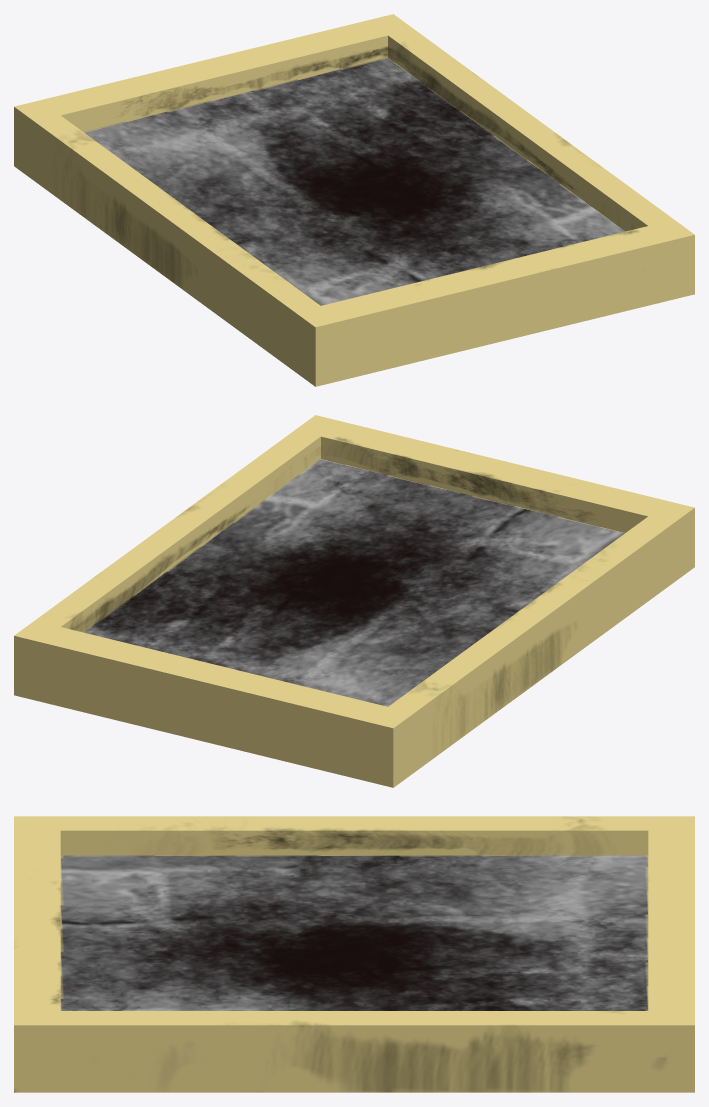
The model's file is NNJ0510014.fbx.
3 views of the same model, one above another, from view 1: azimuth 30°, elevation 25°; view 2: azimuth 150°, elevation 25°; view 3: azimuth 270°, elevation 25° (orthographic). The views are drawn at different scales.
Parts seen in each view (by area): view 1: smNNJ0510014; view 2: smNNJ0510014; view 3: smNNJ0510014.
Part boxes in pixels (x1,y1,x2,y2): smNNJ0510014: (14, 14, 694, 386); smNNJ0510014: (14, 415, 694, 787); smNNJ0510014: (14, 816, 694, 1092).
Size of the model in its own units: 126 by 18.9 by 173.
1 material, 1 textured.
